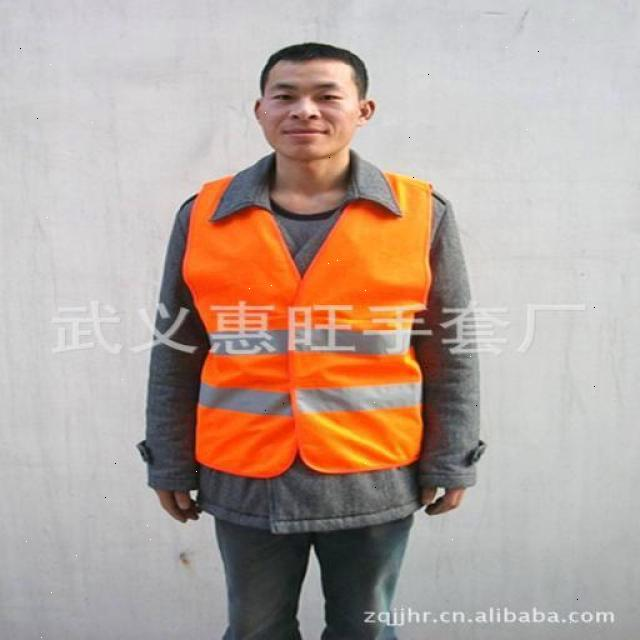Vest: (182, 200, 426, 473)
